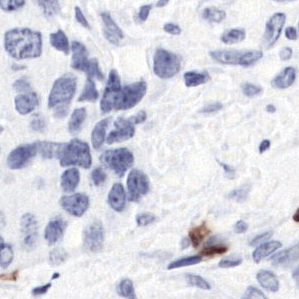Lymphocyte: (198, 242, 232, 262)
